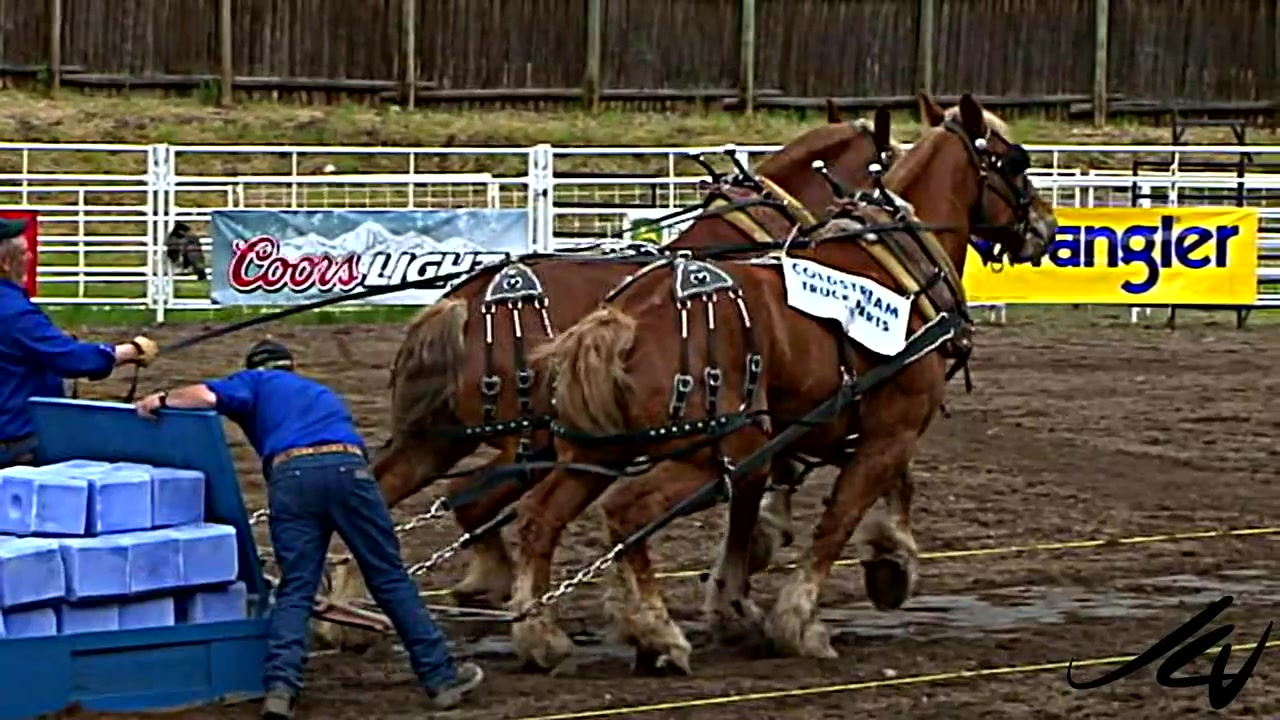horse: (508, 97, 1058, 675)
